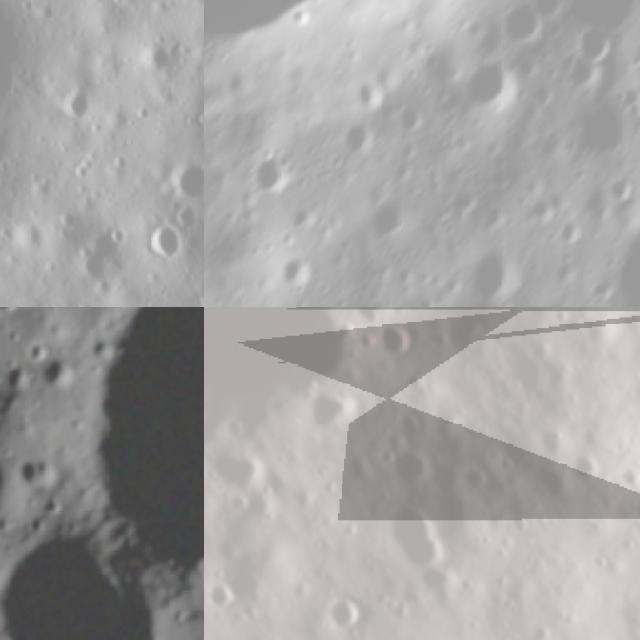crater: (204, 0, 556, 148), (75, 307, 204, 584), (0, 537, 140, 640), (372, 494, 468, 584), (570, 82, 636, 174), (204, 436, 273, 507), (456, 240, 522, 306), (454, 55, 520, 120), (300, 377, 364, 441), (367, 309, 426, 372), (314, 583, 379, 640), (521, 453, 584, 511), (380, 439, 440, 496), (157, 143, 204, 214), (423, 457, 477, 511), (356, 204, 415, 253), (244, 144, 302, 193), (139, 223, 195, 270), (493, 0, 544, 51), (204, 572, 247, 625), (12, 452, 62, 492), (272, 249, 316, 293), (457, 461, 502, 504), (568, 17, 610, 61), (502, 508, 546, 550), (349, 323, 386, 365), (0, 356, 35, 398), (38, 353, 76, 388), (600, 168, 638, 202), (60, 85, 95, 121), (22, 333, 57, 365), (521, 0, 573, 17), (628, 488, 640, 527)
